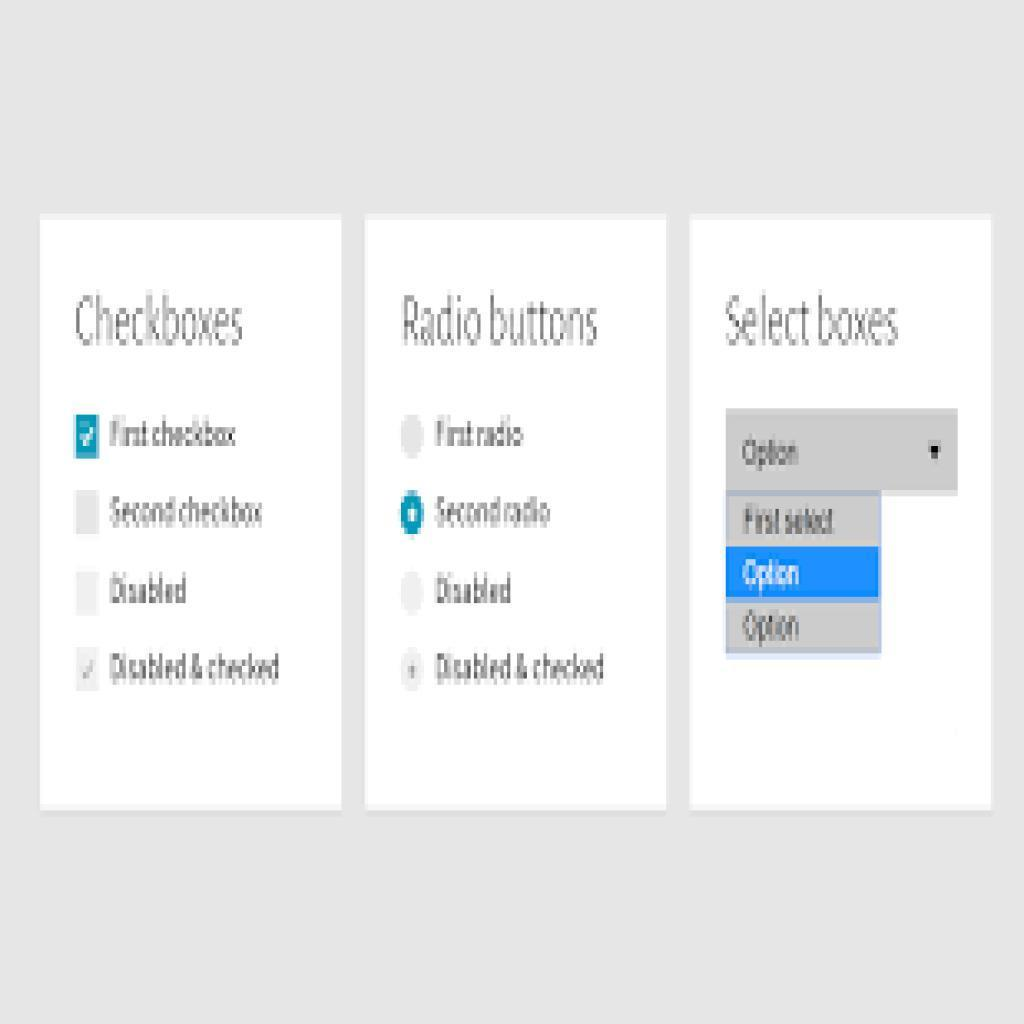button: (727, 545, 883, 600)
checkbox: (71, 488, 104, 548), (72, 561, 105, 620), (71, 637, 104, 689), (73, 409, 103, 460)
dropdown: (727, 411, 959, 491)
radio: (399, 399, 428, 464), (399, 636, 427, 703), (398, 564, 432, 619), (398, 488, 426, 546)
